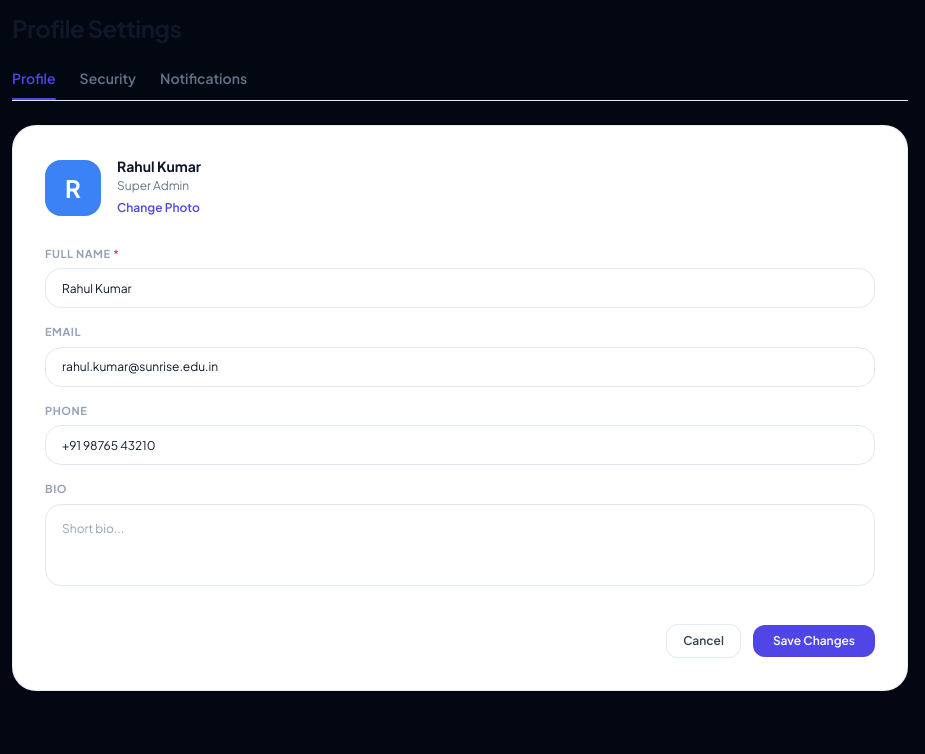
Test: ProfileSettingsPage › switches to Security tab, validates inputs and updates password
// Click Security Tab
Click the button "Security": (108, 84) [80,68,136,100]
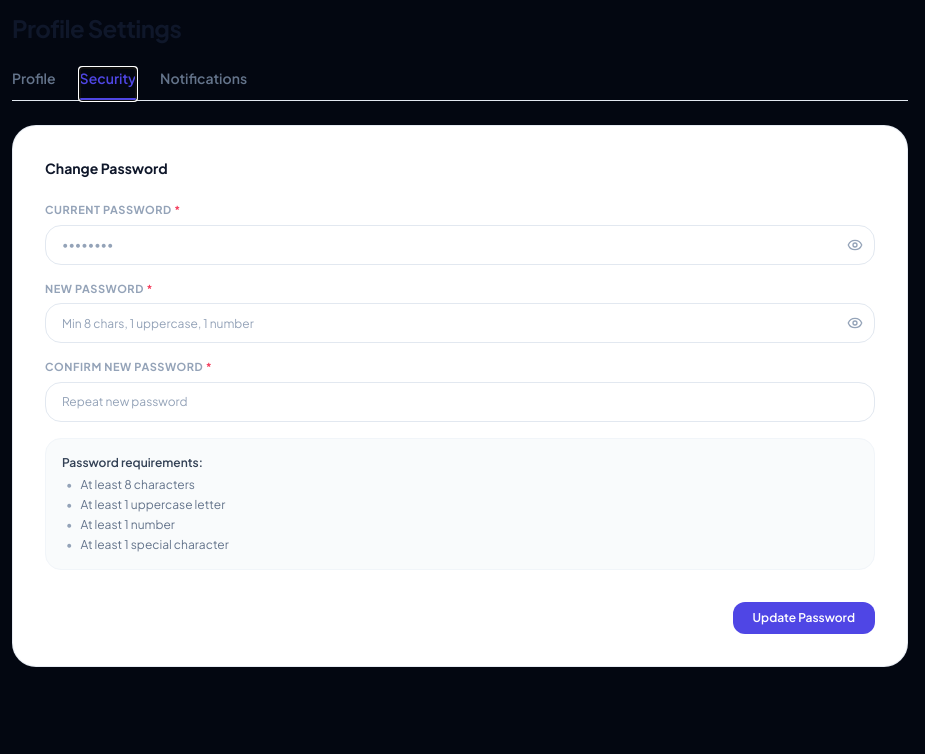
Result: the heading "Change Password" is shown at [45,159,168,177]
Result: the text "Password requirements:" is shown at [62,454,203,470]
Result: the text "At least 8 characters" is shown at [80,476,195,492]
In the password field with placeholder "••••••••": (460, 244) [45,224,875,264], type "oldpassword123"
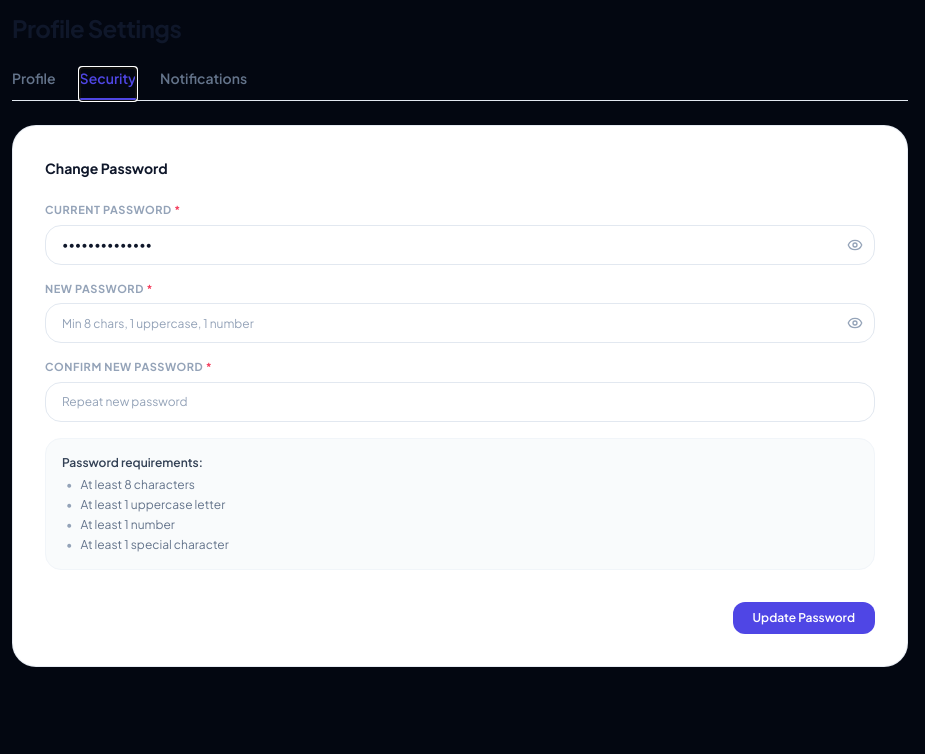
In the password field with placeholder "Min 8 chars, 1 uppercase, 1 number": (460, 323) [45,303,875,343], type "Newpassword@123"
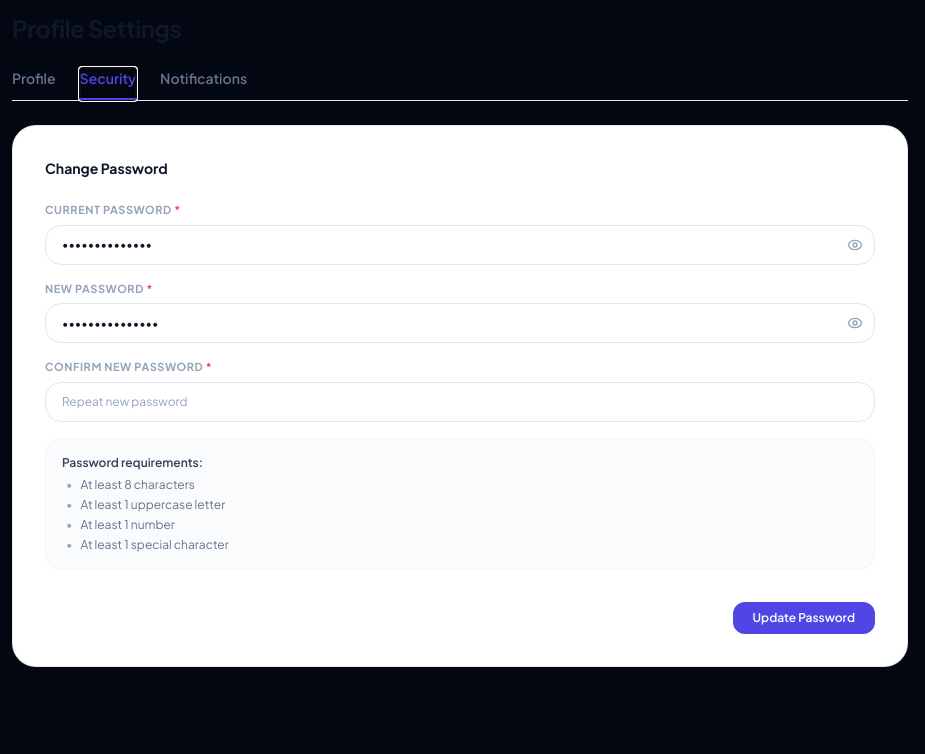
In the password field with placeholder "Repeat new password": (460, 402) [45,382,875,422], type "Newpassword@123"
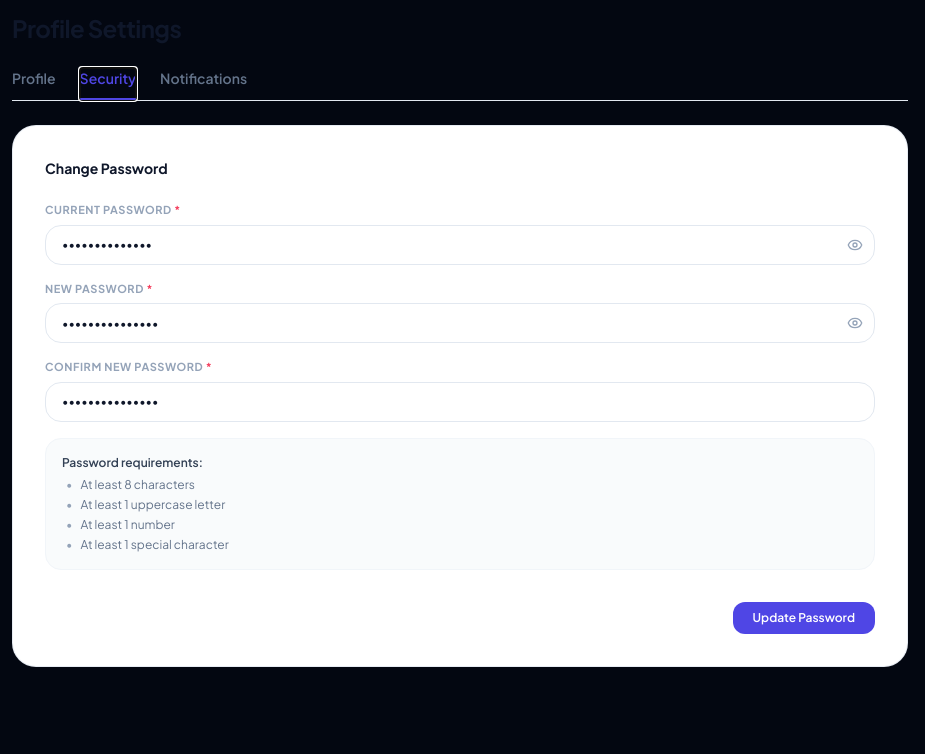
Click the button "Update Password": (804, 618) [733,602,875,634]
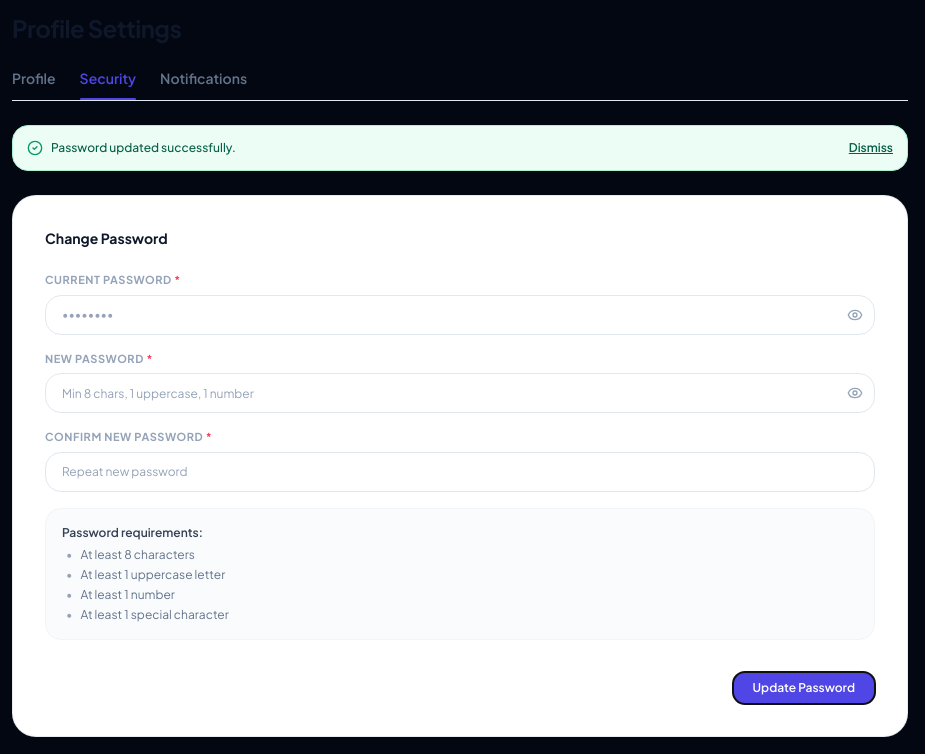
Result: the text "Password updated successfully." is shown at [51,140,236,156]
